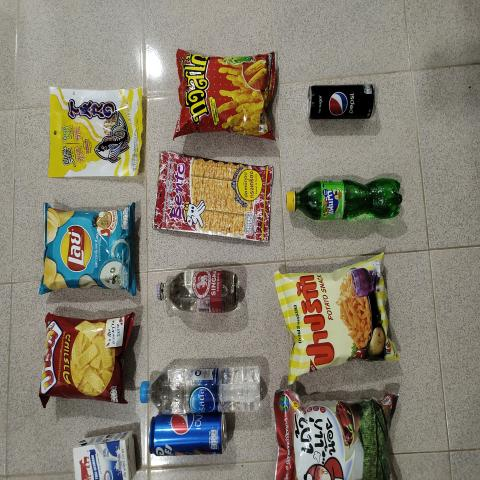bento_red: (152, 148, 276, 248)
crystal: (138, 360, 268, 410)
fanta_green: (283, 174, 411, 226)
lay_blue: (40, 206, 136, 292)
paprika: (275, 265, 402, 367)
party_red: (39, 314, 128, 400)
pepsi_black: (306, 82, 376, 116)
pepsi_blue: (146, 414, 228, 453)
singha_soda: (156, 266, 248, 310)
taro_yellow: (49, 86, 142, 177)
twisco: (178, 49, 274, 139)
